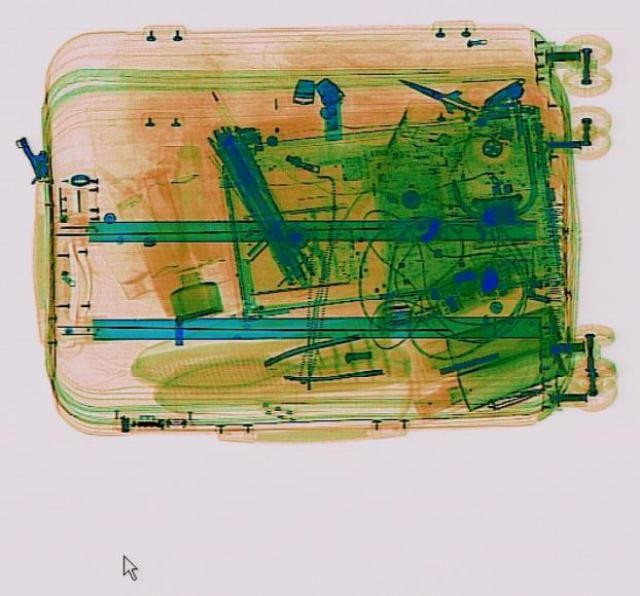Knife: (390, 65, 482, 121)
